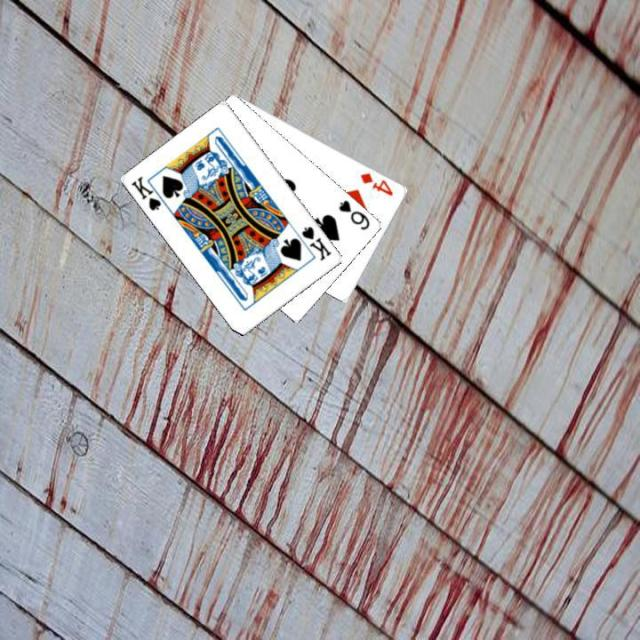4D: (356, 169, 396, 197)
6S: (335, 196, 373, 232)
KS: (128, 172, 171, 212), (298, 222, 333, 262)
